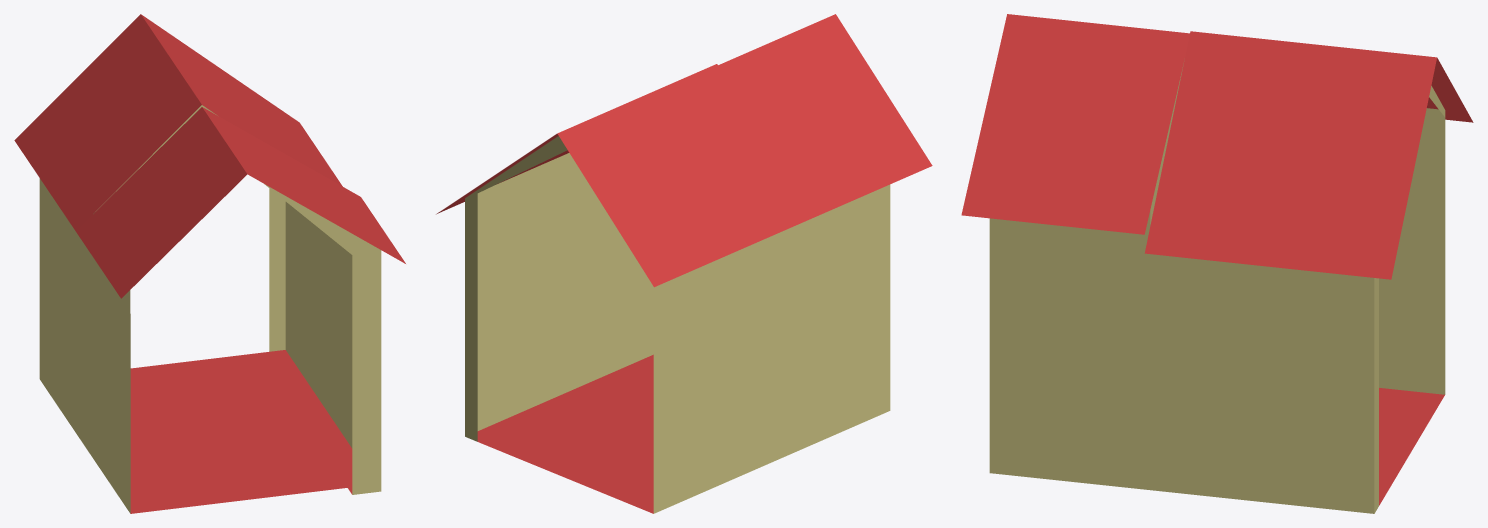
3 views of the same model, side by side, from view 1: azimuth 30°, elevation 25°; view 2: azimuth 150°, elevation 25°; view 3: azimuth 270°, elevation 25° (orthographic). The views are drawn at different scales.
Bounding box in the file's own units: 13.97 × 16.44 × 13.86.
